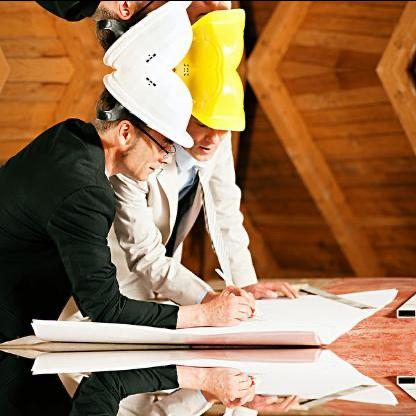Helmet: (84, 68, 228, 180), (153, 67, 255, 168), (84, 0, 229, 69), (152, 0, 256, 69)
